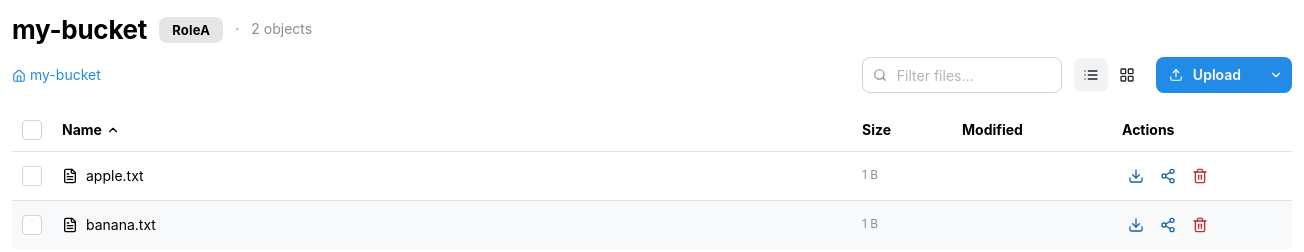
Test case: FileBrowser hybrid pagination › debounces the search filter (input is instant, filter applies after the delay)
Type "apple" into the field with placeholder "Filter files…" at (962, 75), box [862, 57, 1062, 93]
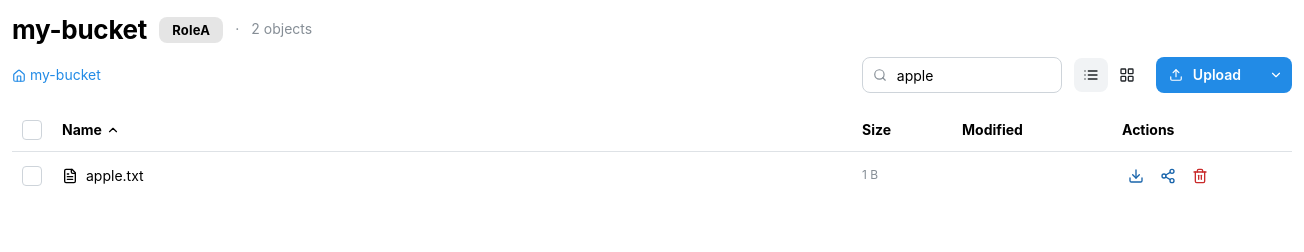
Expected: the text "apple.txt" is shown, [86, 166, 144, 186]
Expected: the text "banana.txt" is gone
